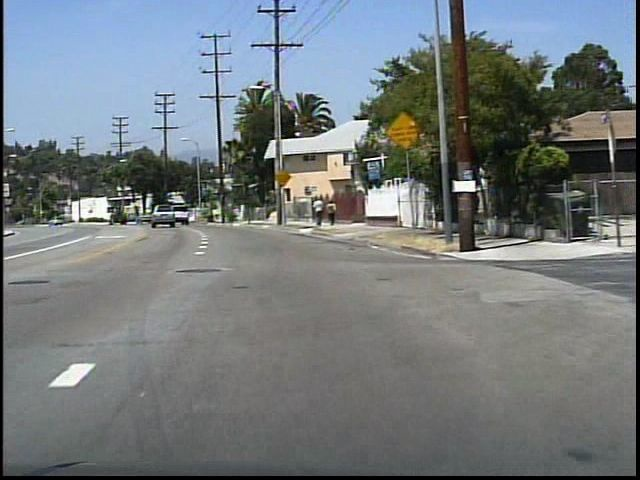person: (310, 196, 325, 229), (324, 199, 338, 228)
